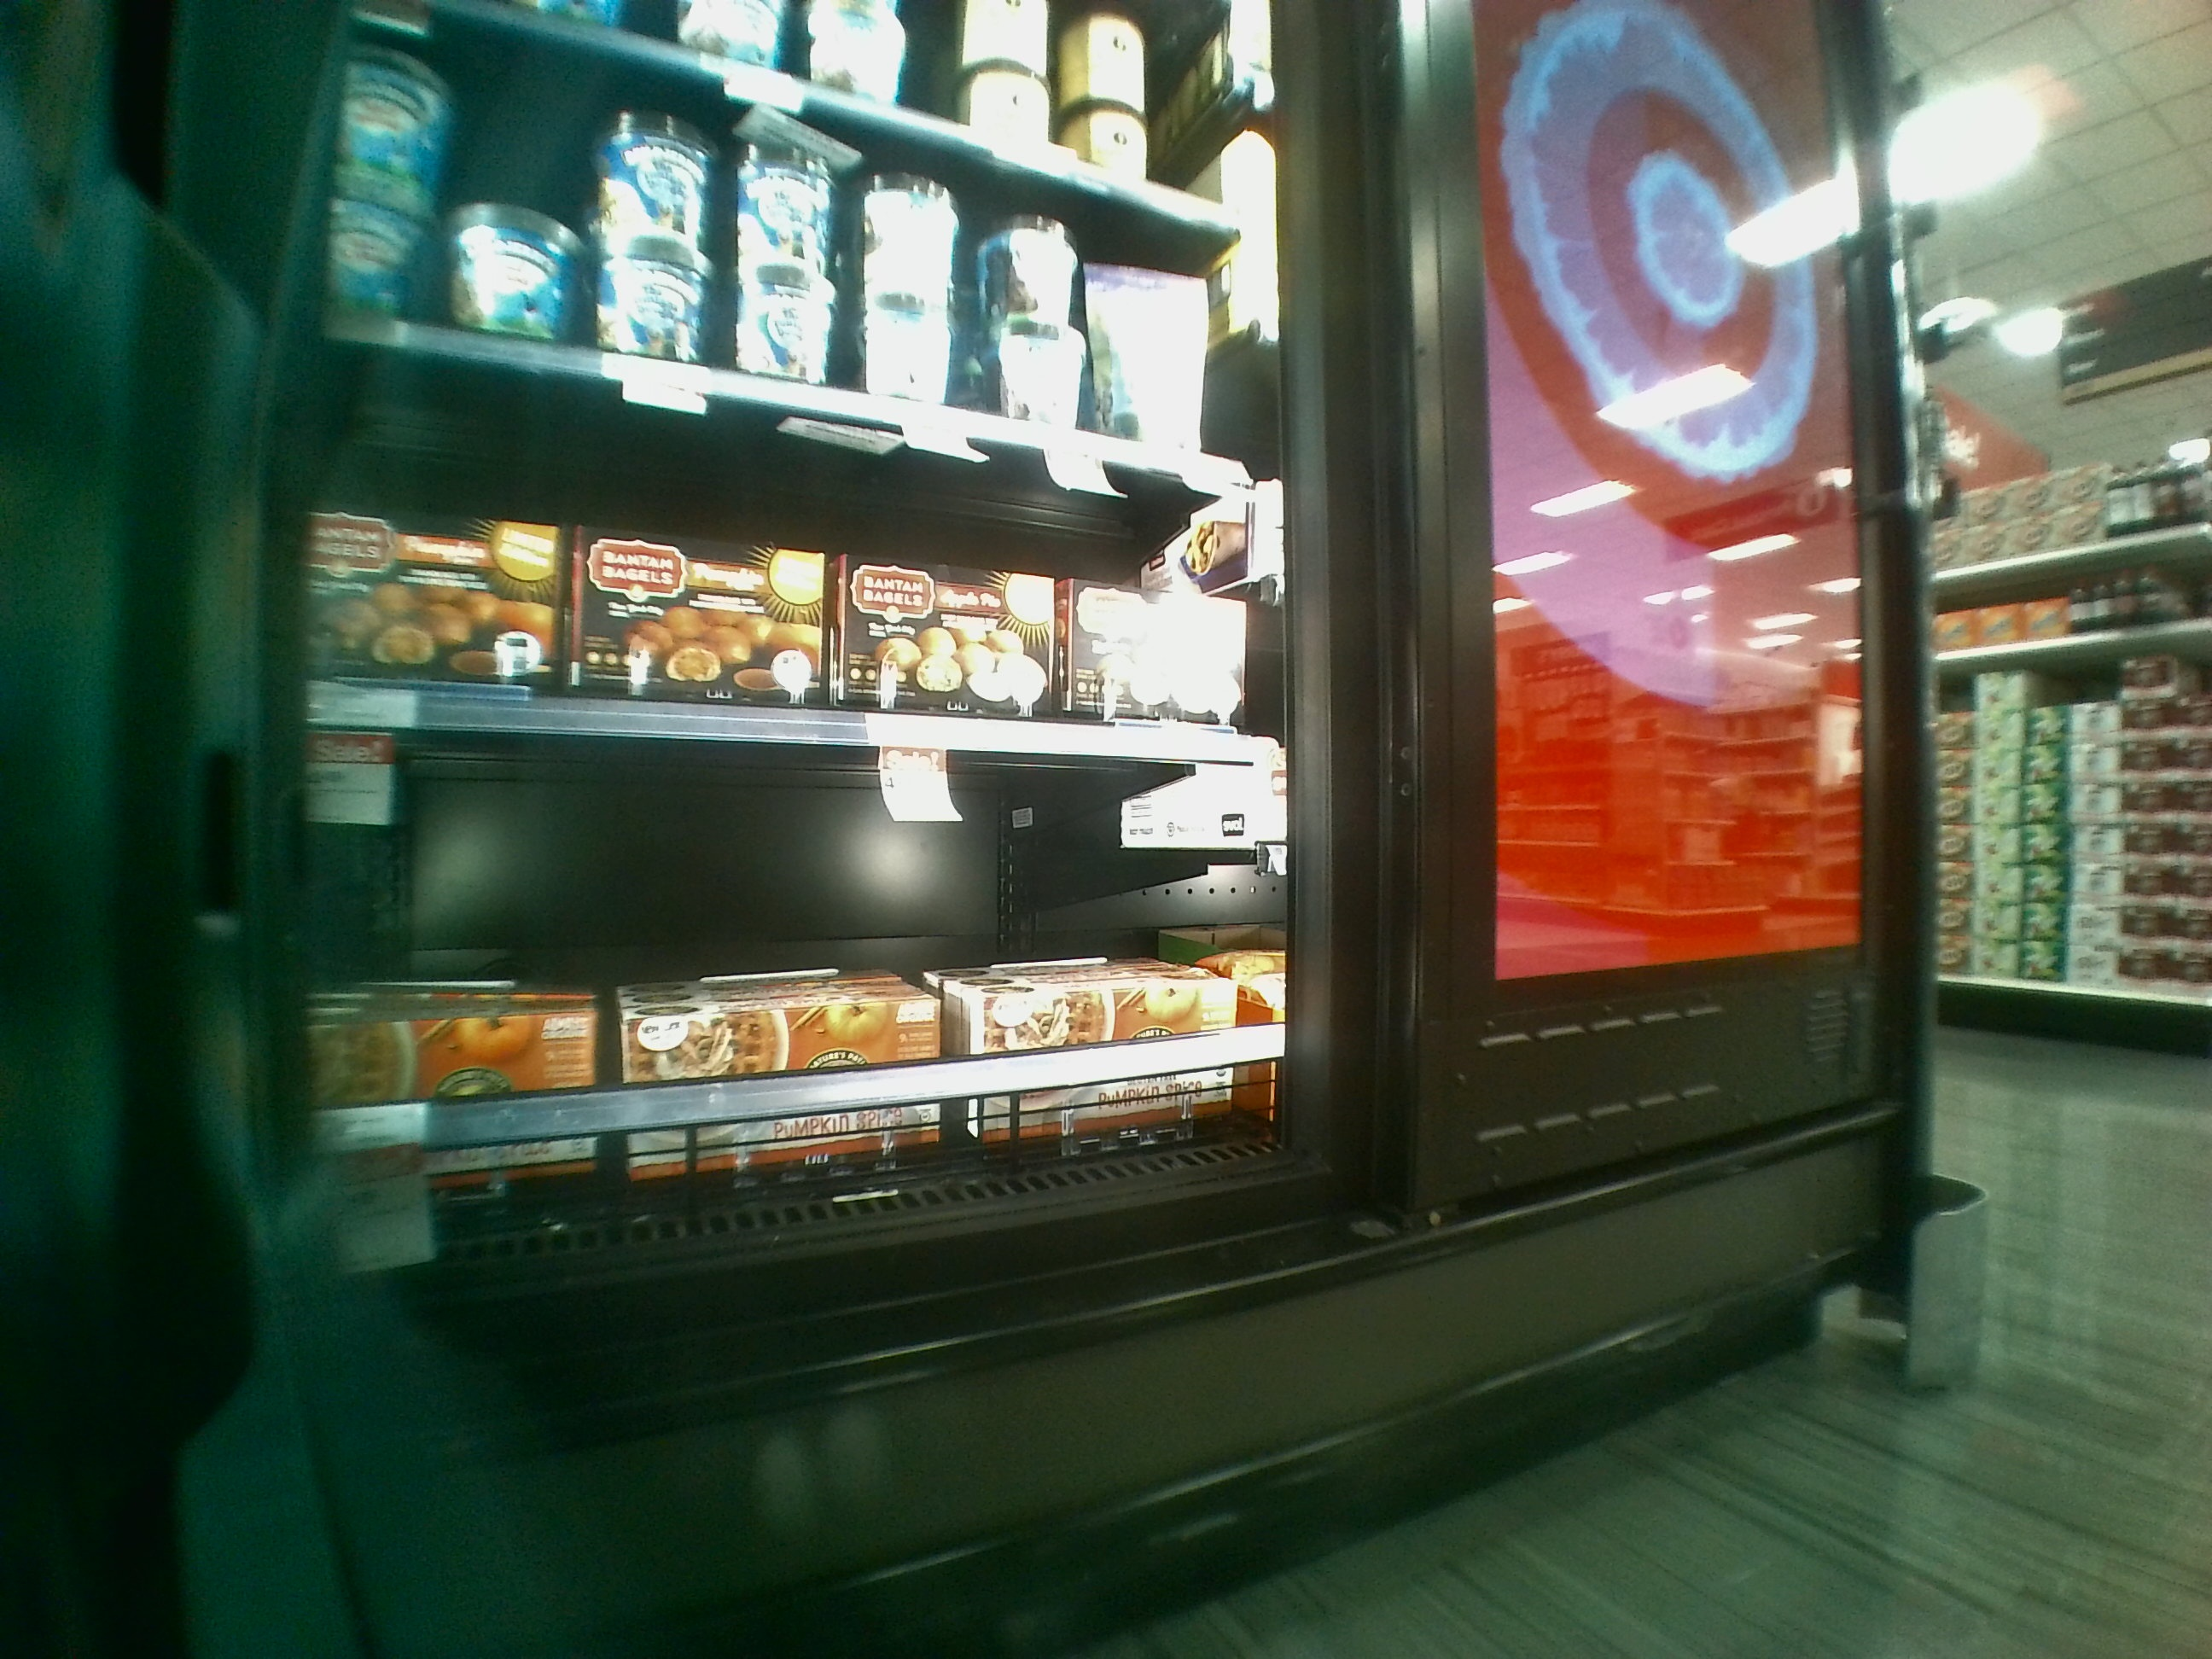shelf: (294, 741, 1336, 1239), (298, 326, 1285, 753)
